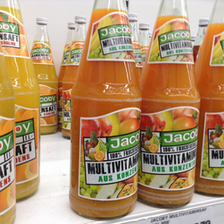juice: (70, 1, 144, 218), (138, 1, 201, 208), (1, 1, 39, 199), (30, 16, 58, 134)
